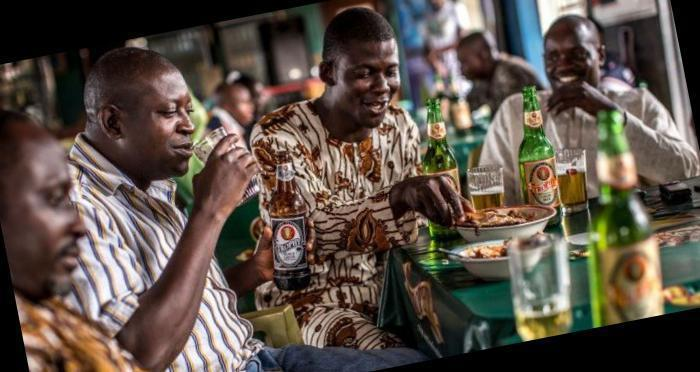Drunk: (129, 62, 197, 176), (343, 31, 401, 128), (545, 29, 597, 97)
